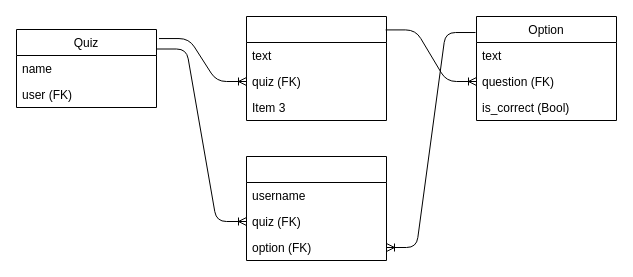
Some shapes in this 633 by 277 pixel diagram are drawn without their labels. Here are the shapes that lost their labels. From the top down, the box of each, then its label:
(246, 16, 386, 120): Question
(246, 156, 386, 260): Answers
